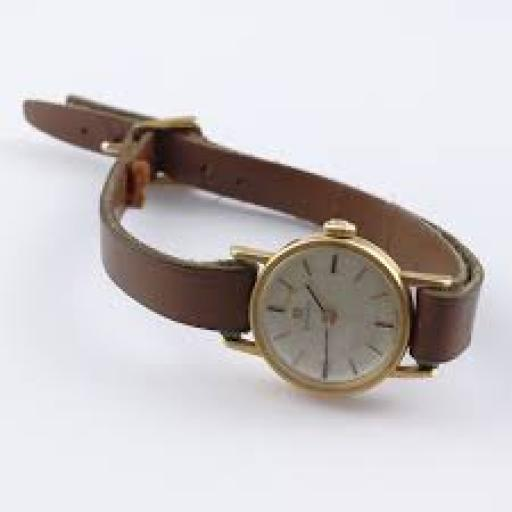KolSaati: (35, 57, 488, 427)
